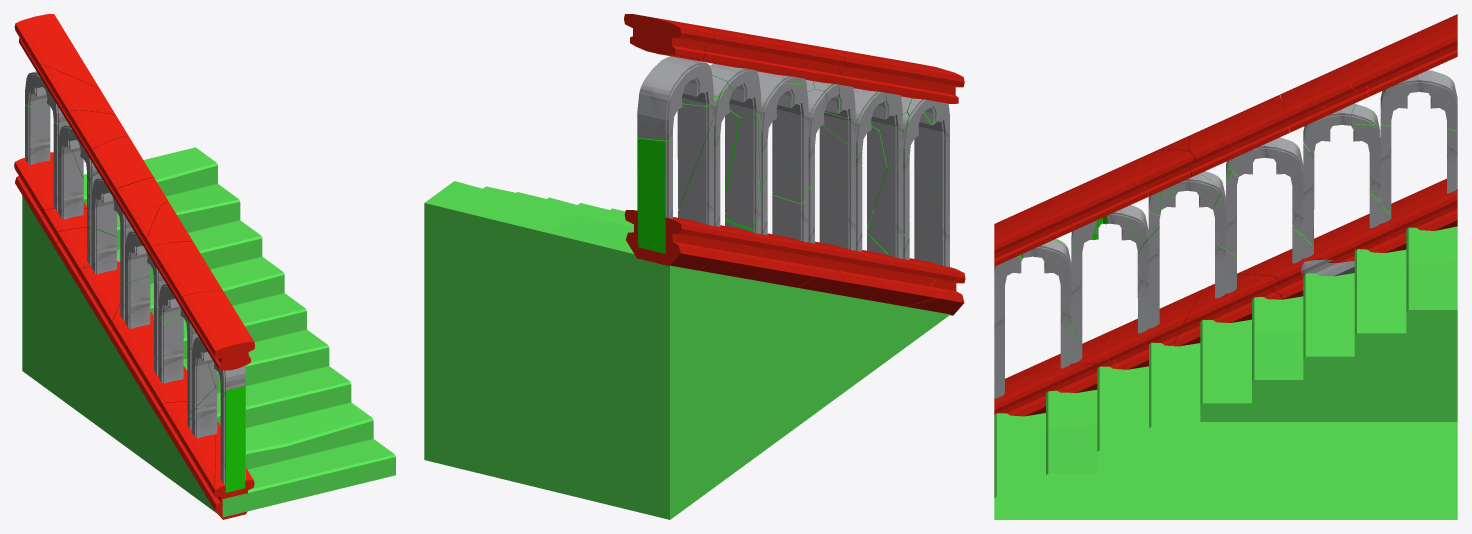
Rendered from SM_Stair1mEnd_Broken.fbx.
3 views of the same model, side by side, from view 1: azimuth 30°, elevation 25°; view 2: azimuth 150°, elevation 25°; view 3: azimuth 270°, elevation 25° (orthographic). The views are drawn at different scales.
Parts seen in each view (by area): view 1: SM_Stair1mEnd_Broken_00, SM_Stair1mEnd_Broken_10, SM_Stair1mEnd_Broken_21, SM_Stair1mEnd_Broken_14, SM_Stair1mEnd_Broken_17, SM_Stair1mEnd_Broken_05, SM_Stair1mEnd_Broken_08, SM_Stair1mEnd_Broken_18, SM_Stair1mEnd_Broken_12, SM_Stair1mEnd_Broken_03, SM_Stair1mEnd_Broken_43, SM_Stair1mEnd_Broken_04 (+18 smaller); view 2: SM_Stair1mEnd_Broken_00, SM_Stair1mEnd_Broken_21, SM_Stair1mEnd_Broken_38, SM_Stair1mEnd_Broken_51, SM_Stair1mEnd_Broken_37, SM_Stair1mEnd_Broken_46, SM_Stair1mEnd_Broken_04, SM_Stair1mEnd_Broken_44, SM_Stair1mEnd_Broken_05, SM_Stair1mEnd_Broken_14, SM_Stair1mEnd_Broken_49, SM_Stair1mEnd_Broken_03 (+26 smaller); view 3: SM_Stair1mEnd_Broken_00, SM_Stair1mEnd_Broken_14, SM_Stair1mEnd_Broken_10, SM_Stair1mEnd_Broken_02, SM_Stair1mEnd_Broken_06, SM_Stair1mEnd_Broken_17, SM_Stair1mEnd_Broken_04, SM_Stair1mEnd_Broken_08, SM_Stair1mEnd_Broken_38, SM_Stair1mEnd_Broken_18, SM_Stair1mEnd_Broken_48, SM_Stair1mEnd_Broken_12 (+26 smaller).
Part boxes in pixels (<box>): SM_Stair1mEnd_Broken_00: <box>22,147,395,517</box>; SM_Stair1mEnd_Broken_10: <box>181,290,254,370</box>; SM_Stair1mEnd_Broken_21: <box>214,365,245,492</box>; SM_Stair1mEnd_Broken_14: <box>14,14,100,89</box>; SM_Stair1mEnd_Broken_17: <box>149,241,222,310</box>; SM_Stair1mEnd_Broken_05: <box>156,401,215,487</box>; SM_Stair1mEnd_Broken_08: <box>124,339,187,414</box>; SM_Stair1mEnd_Broken_18: <box>91,136,153,197</box>; SM_Stair1mEnd_Broken_12: <box>37,64,115,123</box>; SM_Stair1mEnd_Broken_03: <box>74,261,120,337</box>; SM_Stair1mEnd_Broken_43: <box>58,127,83,219</box>; SM_Stair1mEnd_Broken_04: <box>14,152,86,220</box>; SM_Stair1mEnd_Broken_00: <box>424,181,950,519</box>; SM_Stair1mEnd_Broken_21: <box>914,102,949,266</box>; SM_Stair1mEnd_Broken_38: <box>637,56,713,140</box>; SM_Stair1mEnd_Broken_51: <box>819,125,855,250</box>; SM_Stair1mEnd_Broken_37: <box>637,137,672,253</box>; SM_Stair1mEnd_Broken_46: <box>772,79,808,203</box>; SM_Stair1mEnd_Broken_04: <box>624,210,721,270</box>; SM_Stair1mEnd_Broken_44: <box>725,117,760,229</box>; SM_Stair1mEnd_Broken_05: <box>863,250,961,306</box>; SM_Stair1mEnd_Broken_14: <box>624,14,714,60</box>; SM_Stair1mEnd_Broken_49: <box>867,144,902,257</box>; SM_Stair1mEnd_Broken_03: <box>750,233,819,287</box>; SM_Stair1mEnd_Broken_00: <box>994,226,1457,519</box>; SM_Stair1mEnd_Broken_14: <box>1351,14,1457,95</box>; SM_Stair1mEnd_Broken_10: <box>994,189,1073,266</box>; SM_Stair1mEnd_Broken_02: <box>994,363,1099,416</box>; SM_Stair1mEnd_Broken_06: <box>1173,274,1282,346</box>; SM_Stair1mEnd_Broken_17: <box>1067,157,1149,230</box>; SM_Stair1mEnd_Broken_04: <box>1378,178,1457,250</box>; SM_Stair1mEnd_Broken_08: <box>1105,288,1204,369</box>; SM_Stair1mEnd_Broken_38: <box>1380,70,1457,129</box>; SM_Stair1mEnd_Broken_18: <box>1223,95,1289,154</box>; SM_Stair1mEnd_Broken_48: <box>1228,137,1303,234</box>; SM_Stair1mEnd_Broken_12: <box>1315,40,1399,115</box>.
Bounding box in the file's own units: 1.05 × 1.95 × 2.
